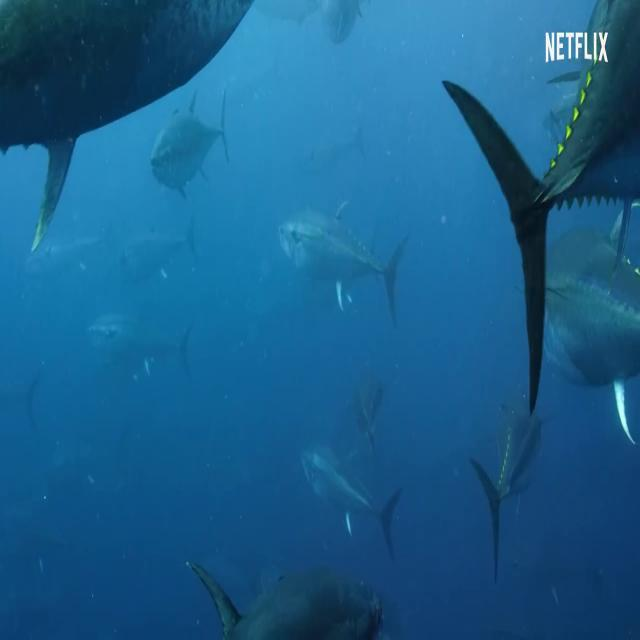fish: (431, 0, 640, 410), (0, 0, 250, 259), (499, 205, 640, 452), (178, 519, 404, 640), (446, 369, 563, 588), (268, 188, 426, 331), (287, 408, 407, 562), (77, 280, 200, 396), (146, 86, 241, 204), (336, 356, 395, 462)
